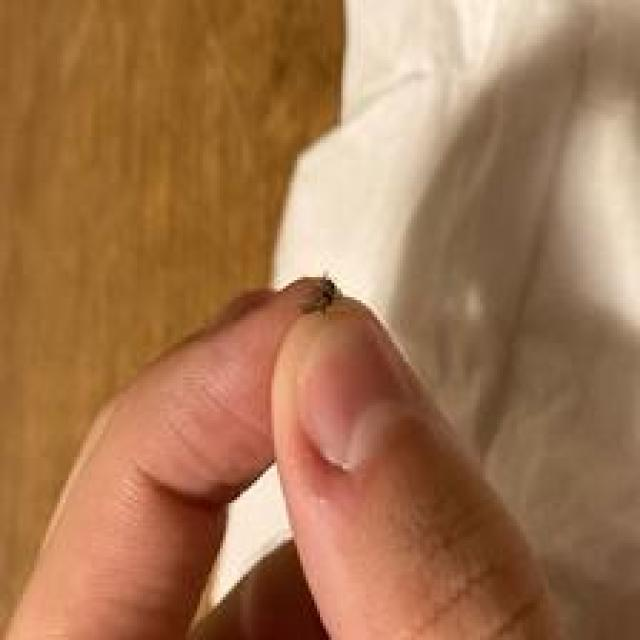Aedes albopictus: (297, 272, 343, 317)
